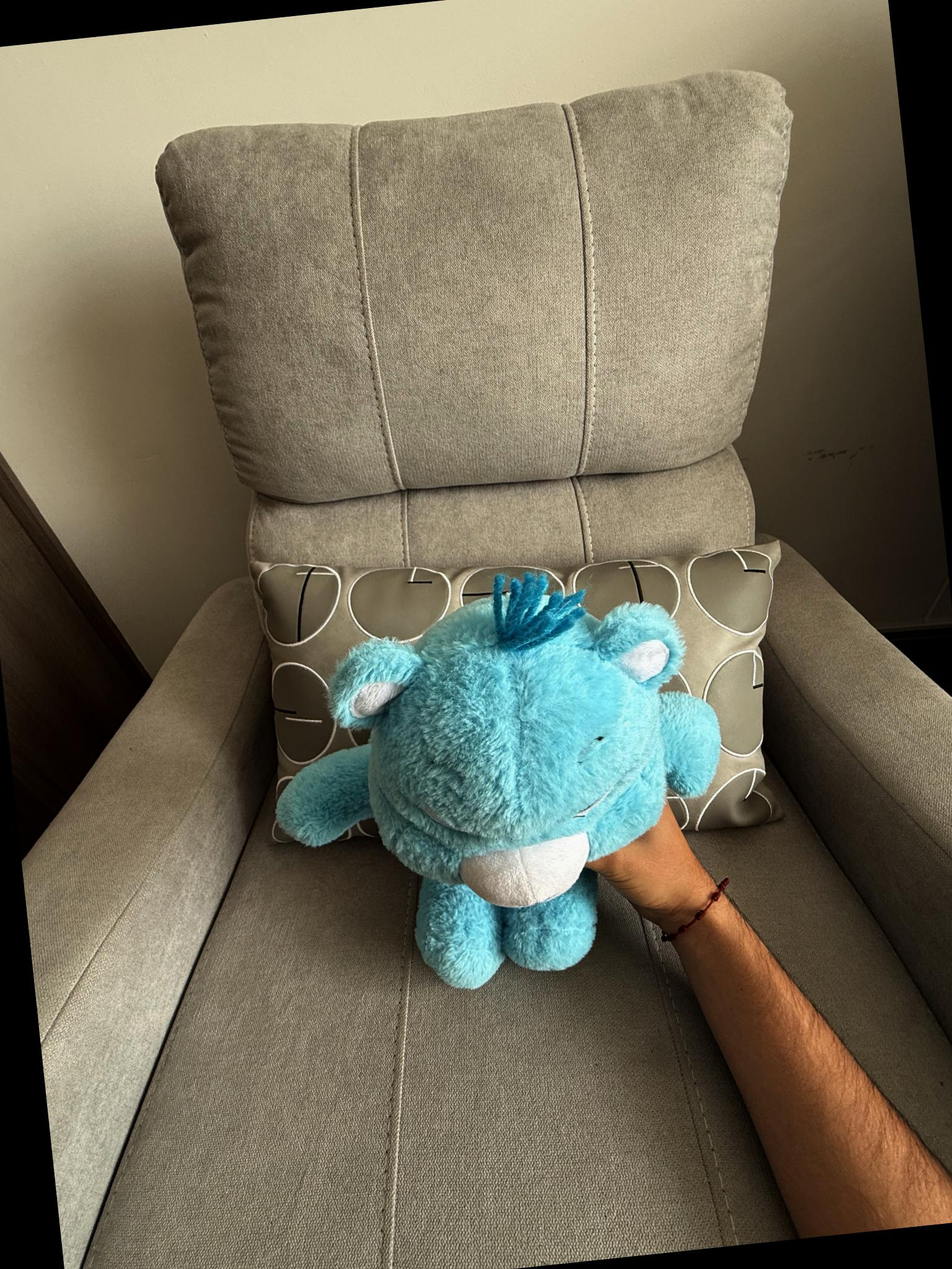peluche_Juan Jose: (248, 550, 746, 1011)
